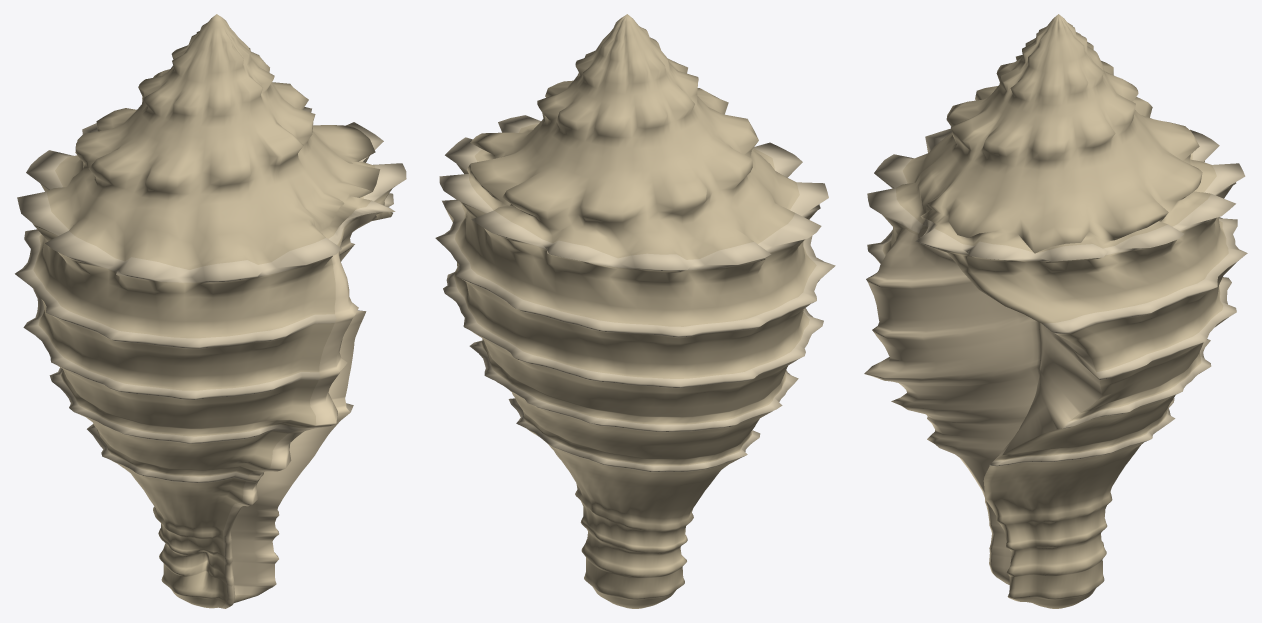
The picture shows the model from 3 angles, left to right: view 1: azimuth 30°, elevation 25°; view 2: azimuth 150°, elevation 25°; view 3: azimuth 270°, elevation 25°; orthographic projection.
Visible parts, largest first — view 1: Continuous dextral shell, aperture and canal; view 2: Continuous dextral shell, aperture and canal; view 3: Continuous dextral shell, aperture and canal.
Boxes of the visible parts, x1,y1,x2,y2 form: Continuous dextral shell, aperture and canal: (15,14,406,608); Continuous dextral shell, aperture and canal: (435,14,835,608); Continuous dextral shell, aperture and canal: (864,14,1247,608).
Bounding box in the file's own units: 0.069 × 0.107 × 0.063.
